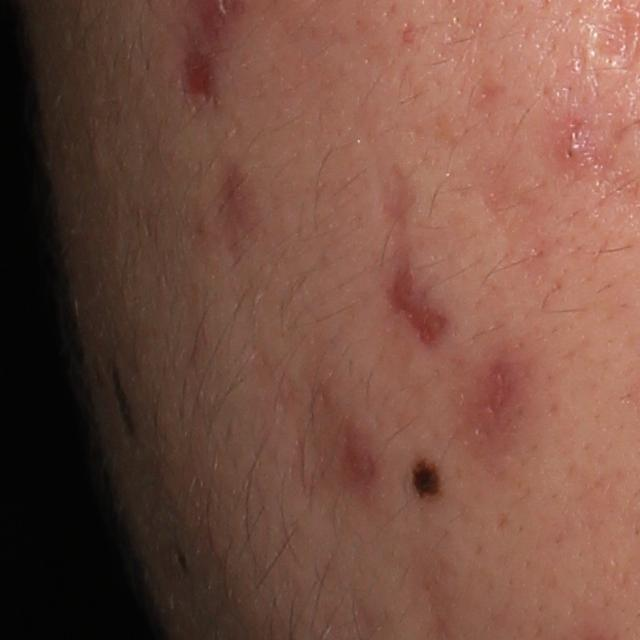atrophic_scar: (256, 318, 397, 533), (481, 149, 566, 290), (376, 249, 463, 377), (465, 349, 536, 481), (203, 150, 267, 271), (374, 150, 439, 239), (589, 6, 637, 60)
nevus: (410, 457, 446, 503)
papule: (550, 124, 599, 176)
